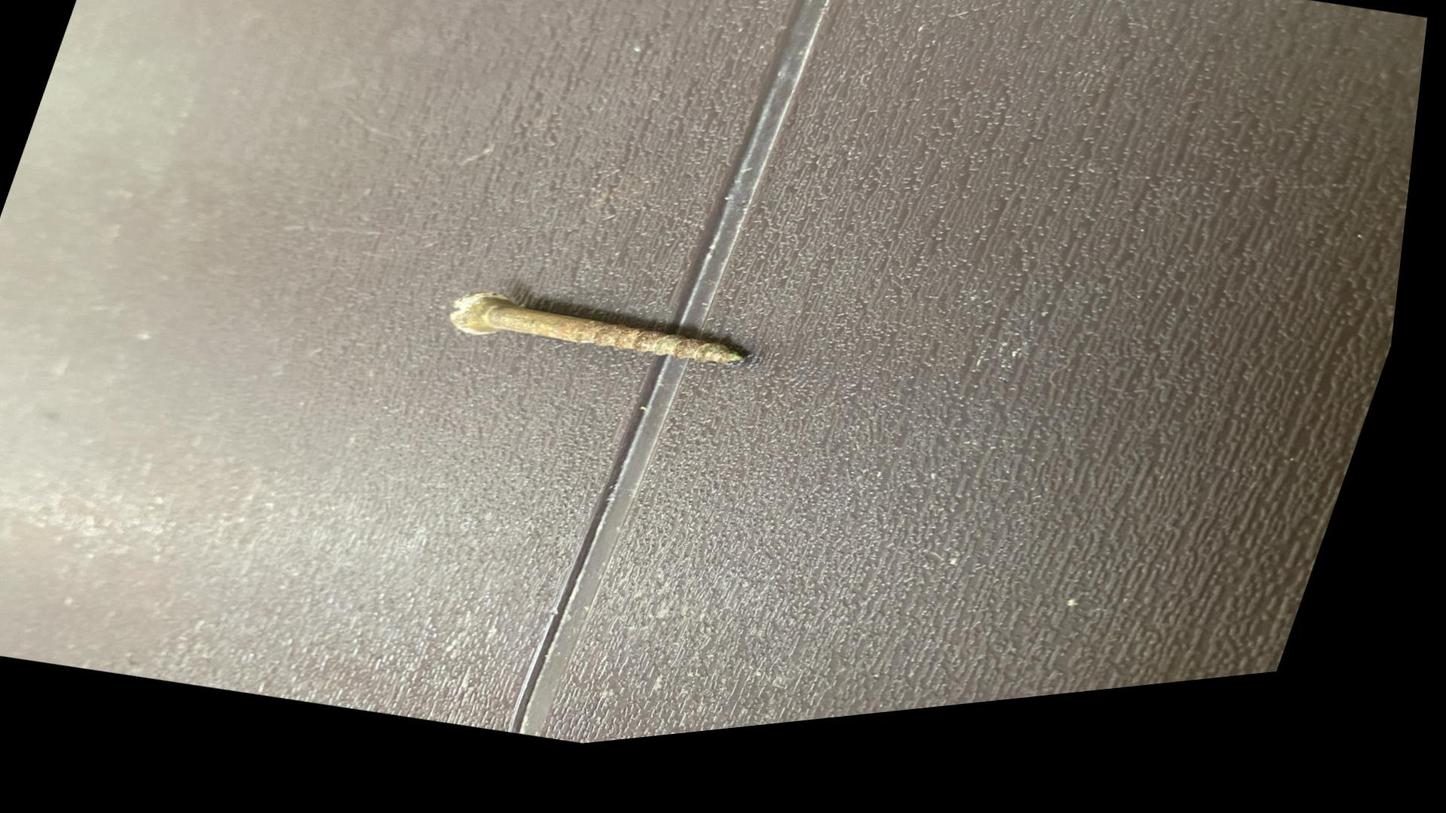screw: (404, 234, 823, 442)
